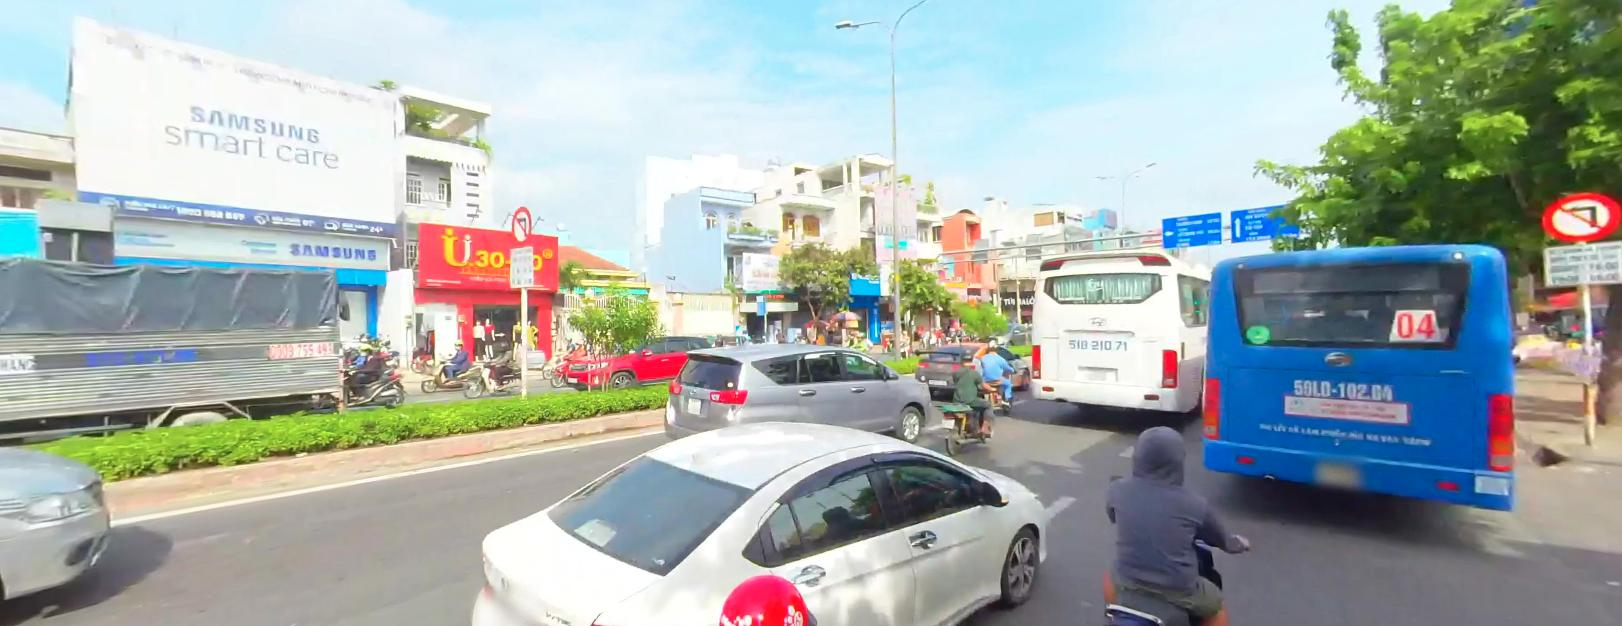Cam re: (1539, 191, 1621, 238), (510, 204, 531, 240)
